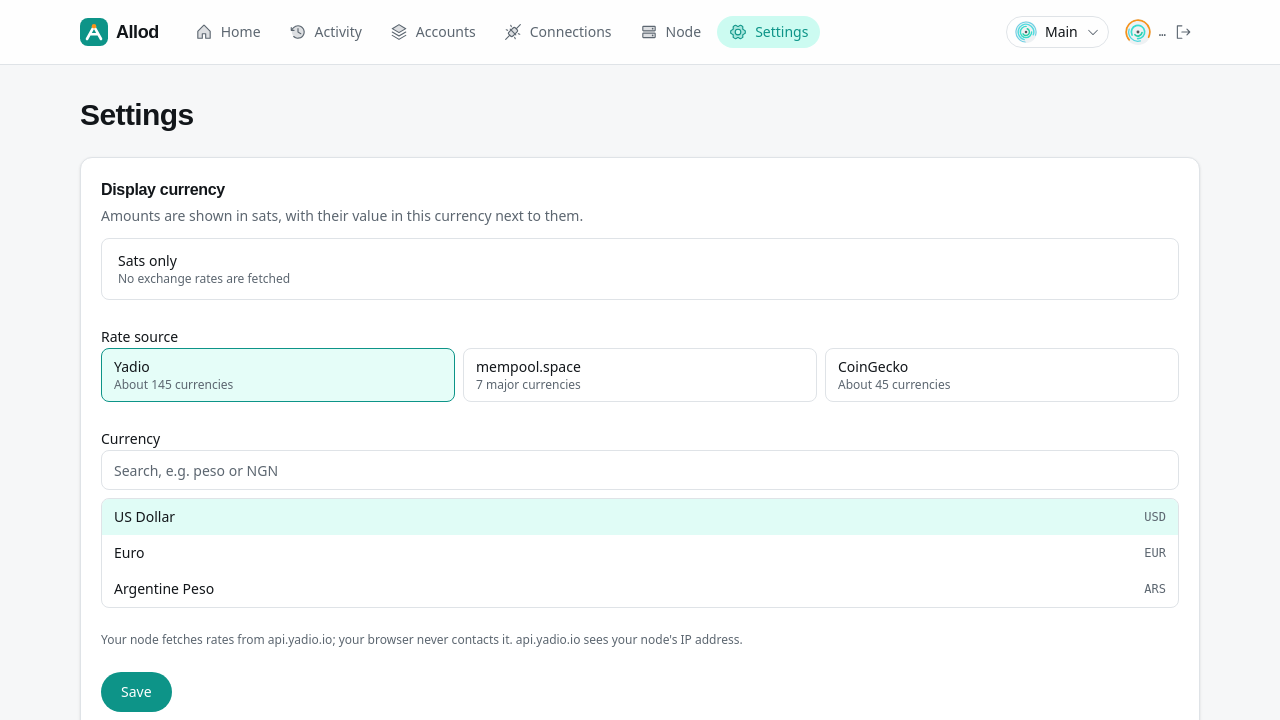
Test: setup wizard › changes the display currency in Settings (USD by default)
This screenshot has width=1280, height=720.
Expected: the heading "Display currency" is shown, [101,181,225,198]
// Currencies come from the node (server-side rates), with names from Intl.
In the field labelled "Currency": x=640, y=470 [101,450,1179,490], type "peso"
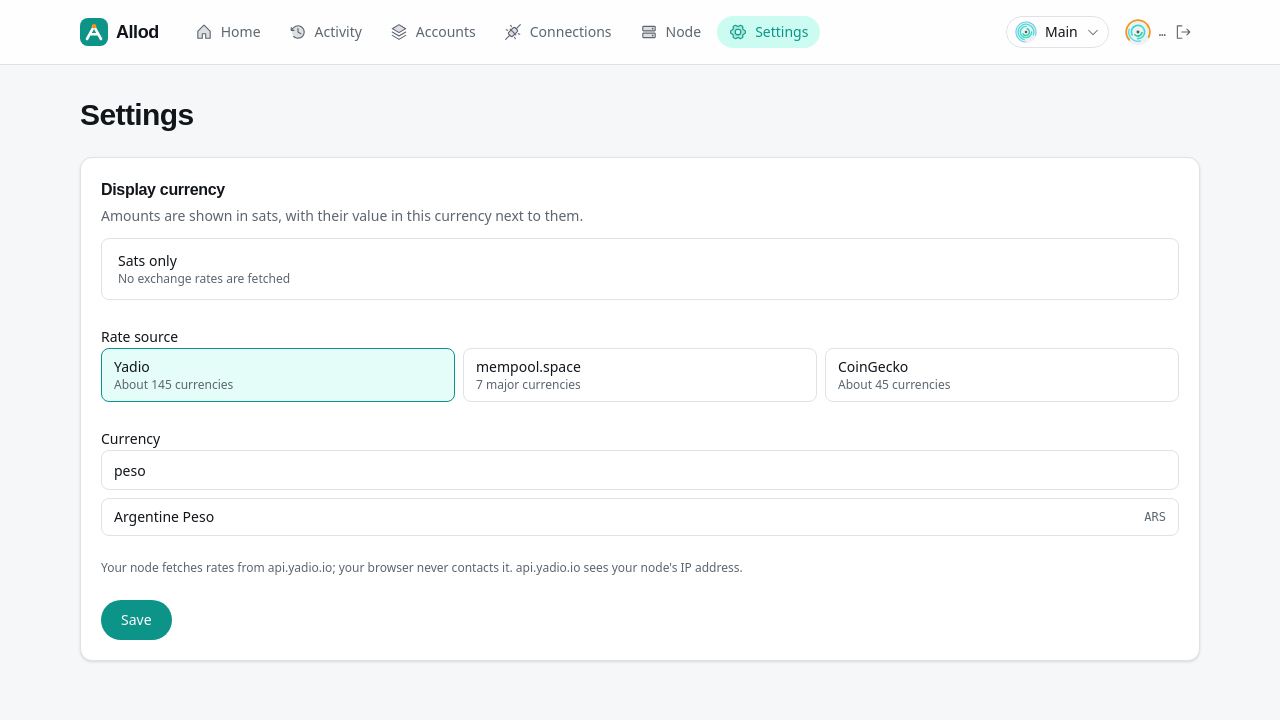
Expected: the option "Euro" is gone
Click the option "Argentine Peso ARS": x=164, y=516 [102,499,1178,535]
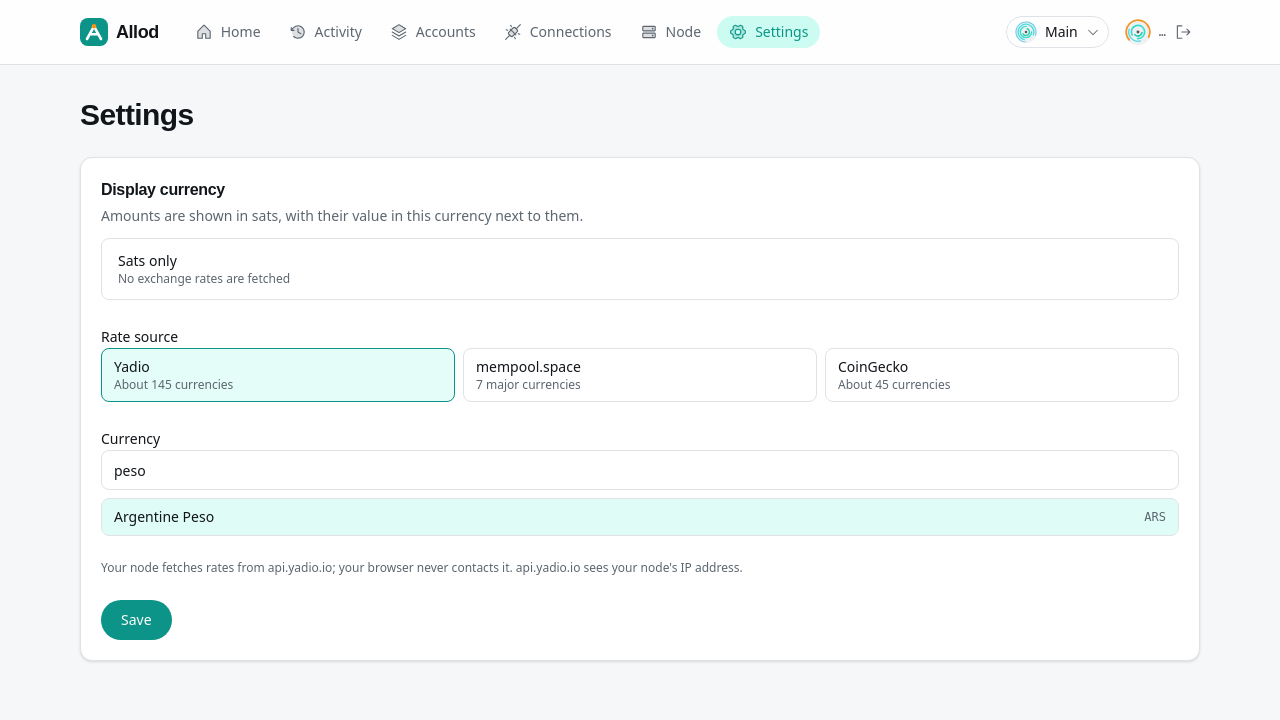
Click the button "Save": x=136, y=620 [101,600,172,640]
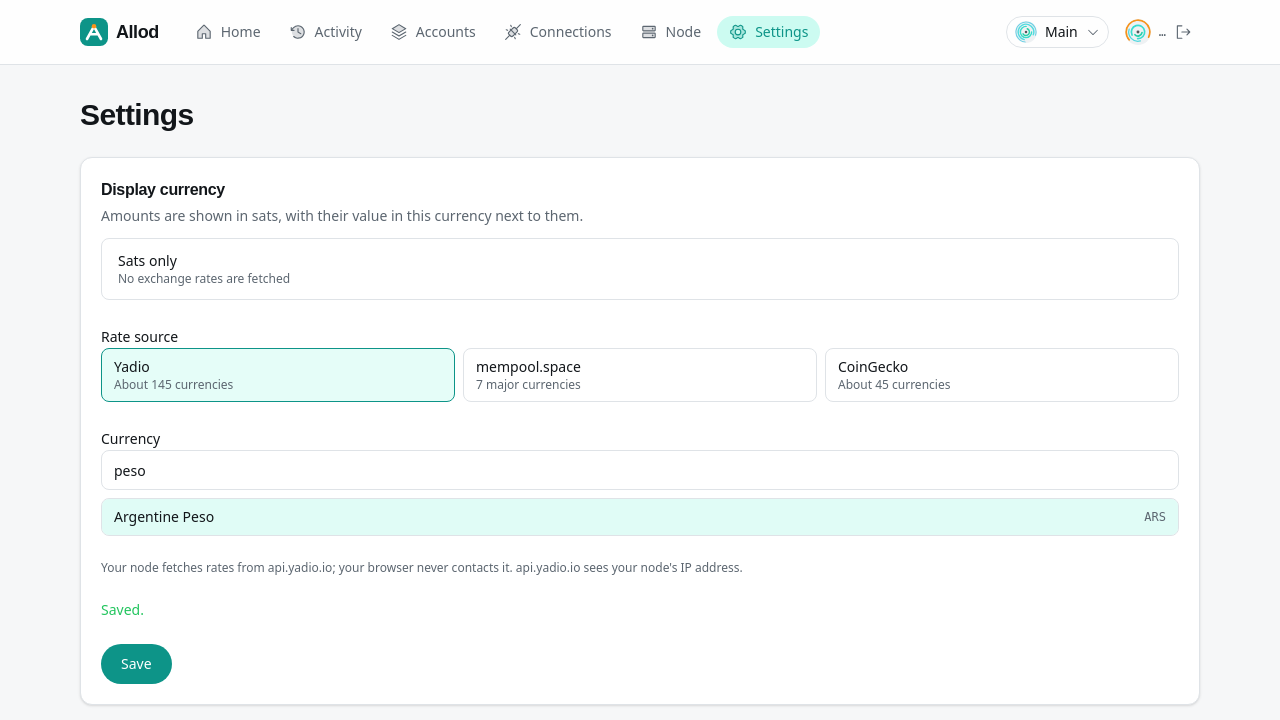
Expected: the text "Saved." is shown, [101,600,144,619]
